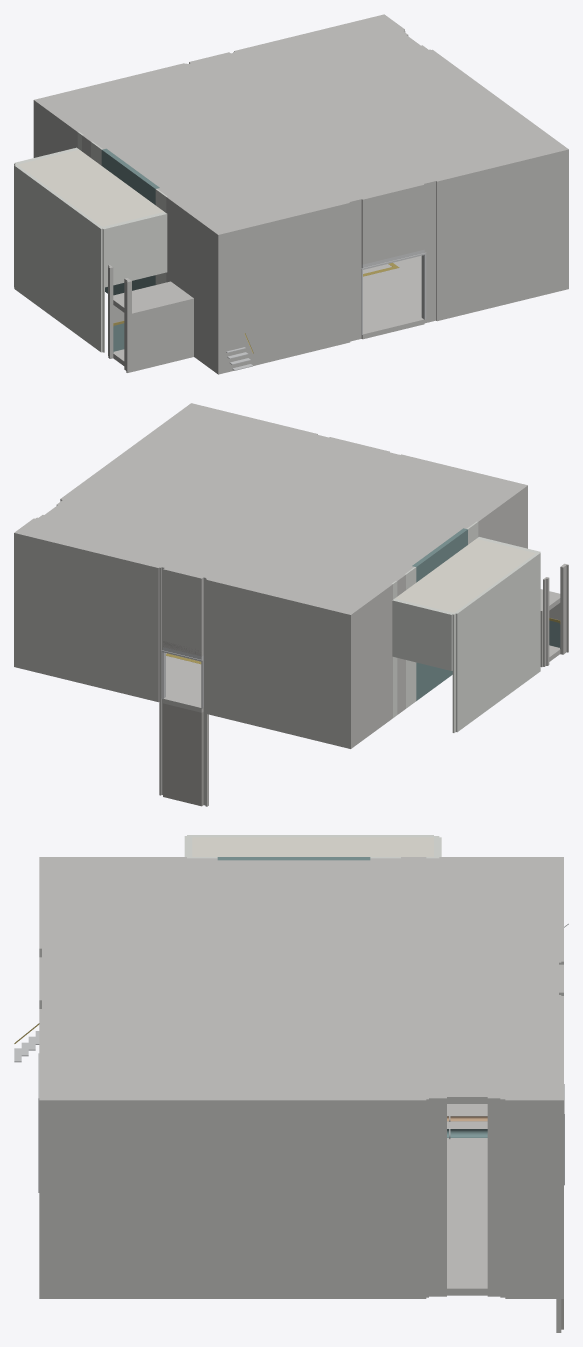
File: area_c_containment.glb
3 renders of one model, top to bottom at view 1: azimuth 30°, elevation 25°; view 2: azimuth 150°, elevation 25°; view 3: azimuth 270°, elevation 25°, orthographic. The views are drawn at different scales.
Visible parts, largest first — view 1: area_c_containment_structure-col, area_c_containment_detail; view 2: area_c_containment_structure-col, area_c_containment_detail; view 3: area_c_containment_structure-col, area_c_containment_detail.
Boxes of the visible parts, x1,y1,x2,y2 form: area_c_containment_structure-col: [14, 14, 568, 374]; area_c_containment_detail: [113, 252, 426, 370]; area_c_containment_structure-col: [14, 403, 568, 806]; area_c_containment_detail: [161, 618, 560, 708]; area_c_containment_structure-col: [39, 835, 563, 1332]; area_c_containment_detail: [14, 924, 568, 1192].
Size of what is drawn, in the model's own units: 26.9 by 14.6 by 21.79.
